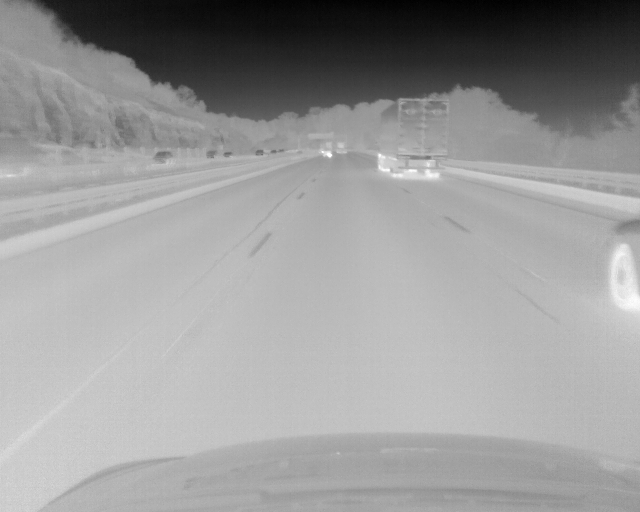car: (377, 97, 447, 181), (608, 221, 640, 312), (152, 151, 172, 163)
